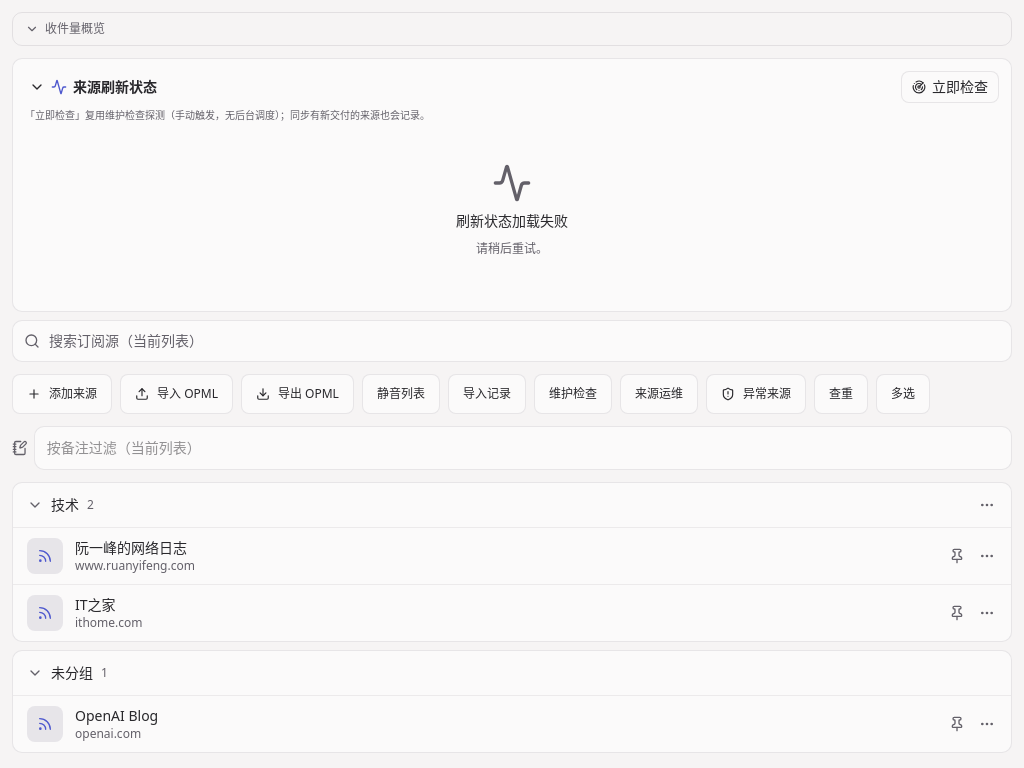
Scenario: SubscriptionsPage（AC11） › 添加来源：打开三模式对话框（0014）
Expected: the text "阮一峰的网络日志" is shown, [75,538,187,556]
Click the button "添加来源".
click(62, 394)  # box [12,374,112,414]
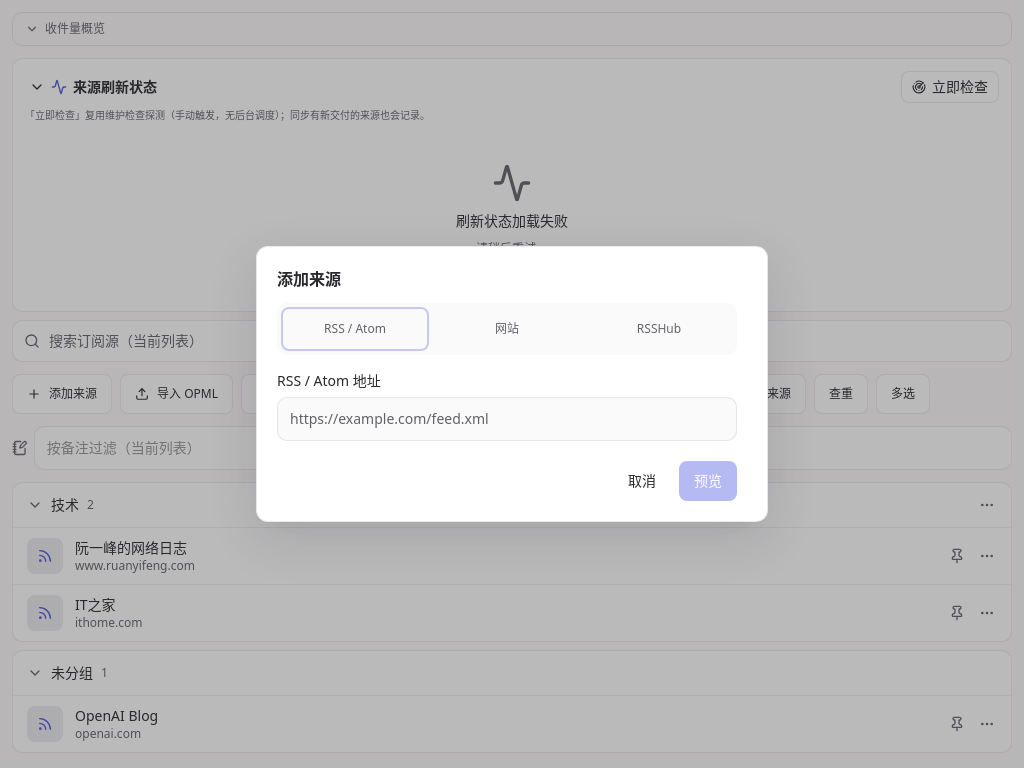
Expected: the dialog "添加来源" is shown, [256,246,768,522]
Expected: the tab "网站" is shown, [433,307,581,351]
Expected: the tab "RSSHub" is shown, [585,307,733,351]
